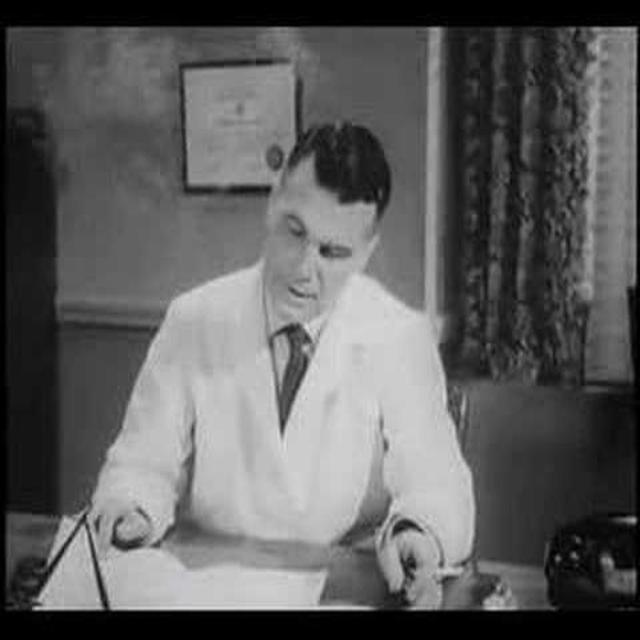smoking: (153, 109, 488, 596)
